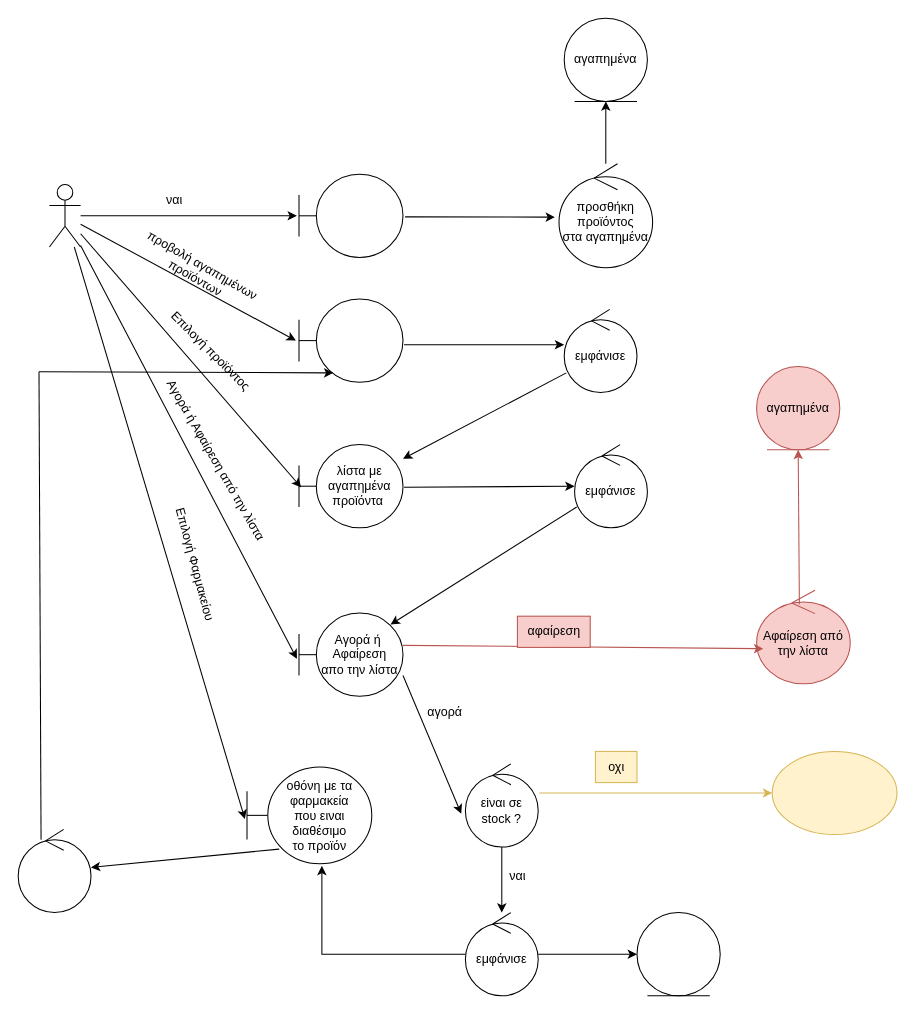
The diagram is 915 pixels wide and 1014 high, and some of its shapes have lost their labels. Here are the shapes that lost their labels. From the top down, the centre of each, then its label:
At pixel 64 215: "χρήστης".
At pixel 350 215: "προσθήκη στα αγαπημένα ?".
At pixel 350 340: "κύρια οθόνη".
At pixel 834 792: "Προβολή εναλλακτικών προϊόντων για προϊόντα που είναι out of stock".
At pixel 54 870: "προσθήκη στο καλάθι".
At pixel 678 954: "φαρμακεία".
